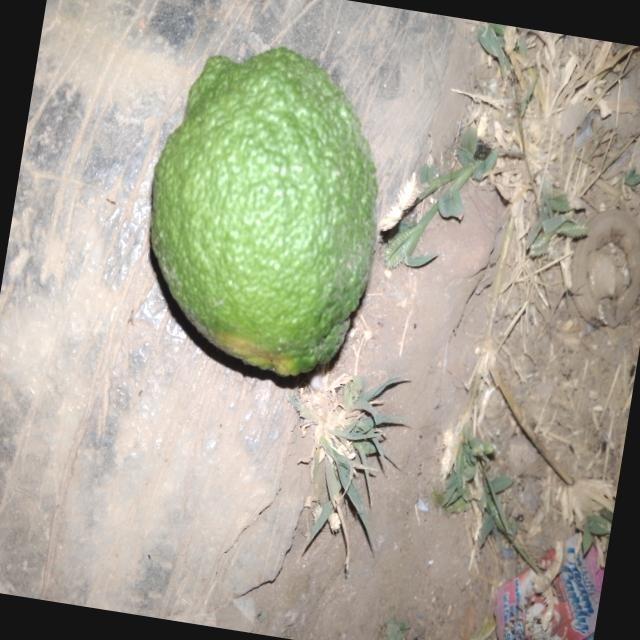agrume: (103, 21, 412, 421)
